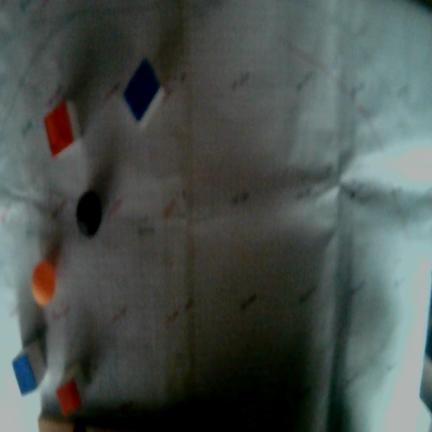circle_blue: (76, 190, 102, 236)
circle_orange: (31, 260, 56, 307)
rectangle_blue: (13, 352, 36, 396)
rectangle_orange: (56, 376, 82, 418)
square_orange: (43, 100, 75, 157)
